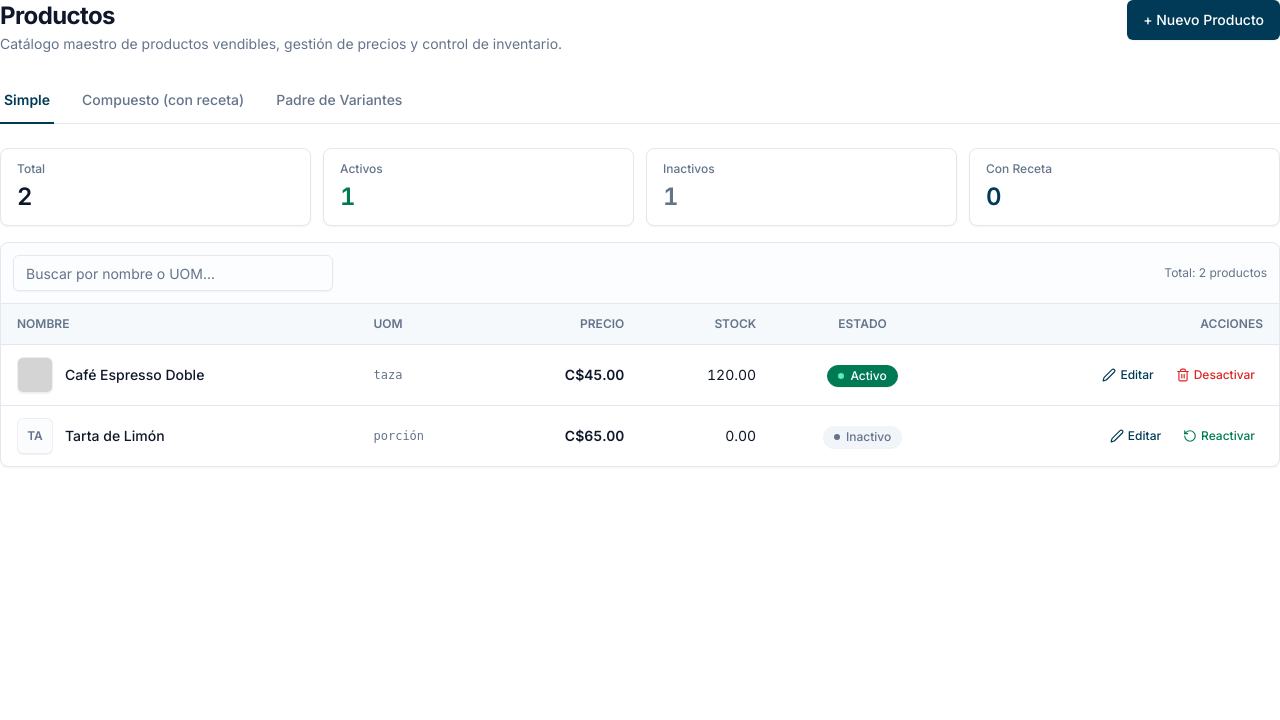
Test case: S2 — Form Sanitization & Accessibility (NHILoS §18.2/§18.3, §30) › renders create form with noValidate attribute to prevent browser validation popups
What coordinates should you click on to do the following:
click the button "+ Nuevo Producto"
I would click on:
 (1204, 20)
Its box is [1127,0,1279,40].
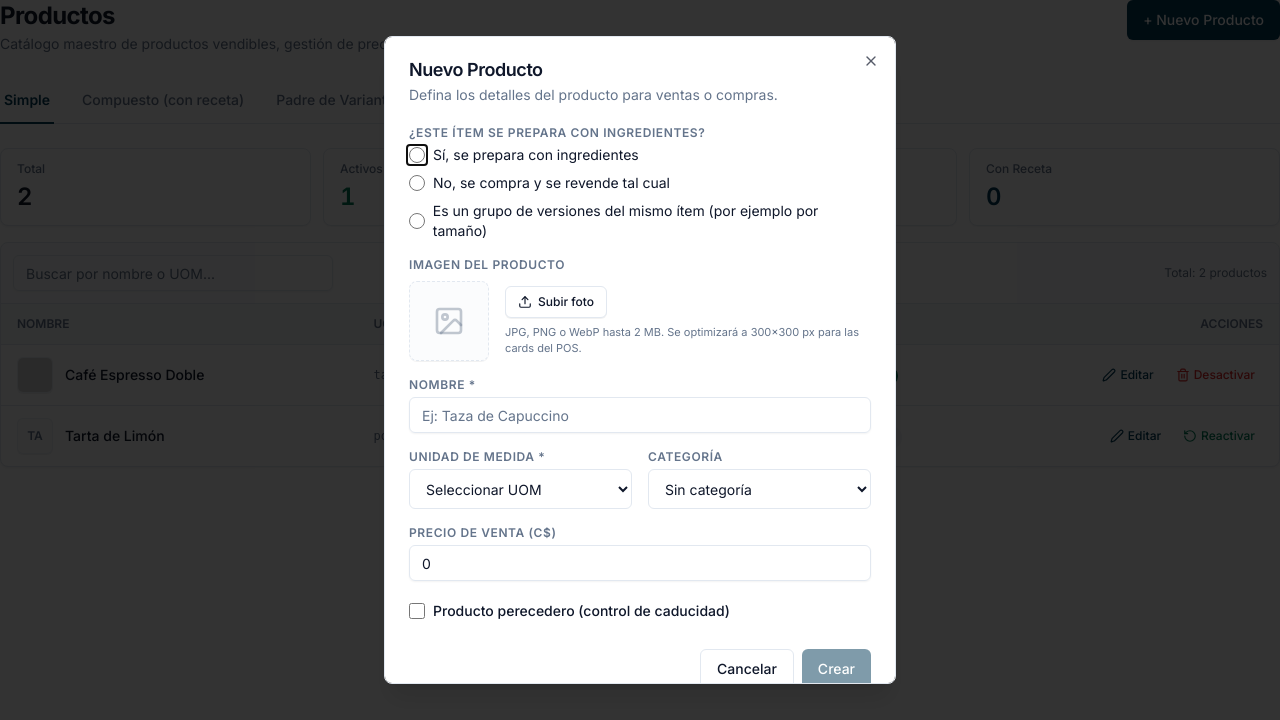
Result: the heading "Nuevo Producto" is shown at [409,59,543,80]
Result: the form is shown at [409,121,871,684]
